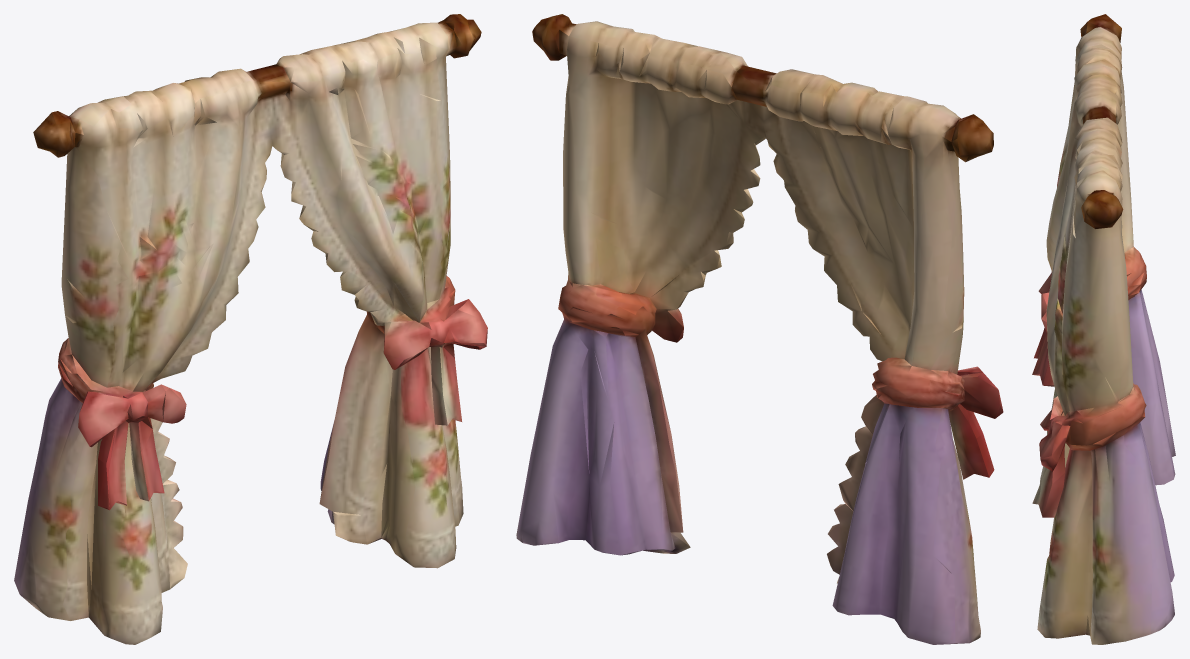
Rendered from curtain01.glb.
3 renders of one model, left to right at view 1: azimuth 30°, elevation 25°; view 2: azimuth 150°, elevation 25°; view 3: azimuth 270°, elevation 25°, orthographic. The views are drawn at different scales.
Size of the model in its own units: 0.2401 by 0.2693 by 0.0751.
Materials: 1 (1 with a texture image).
